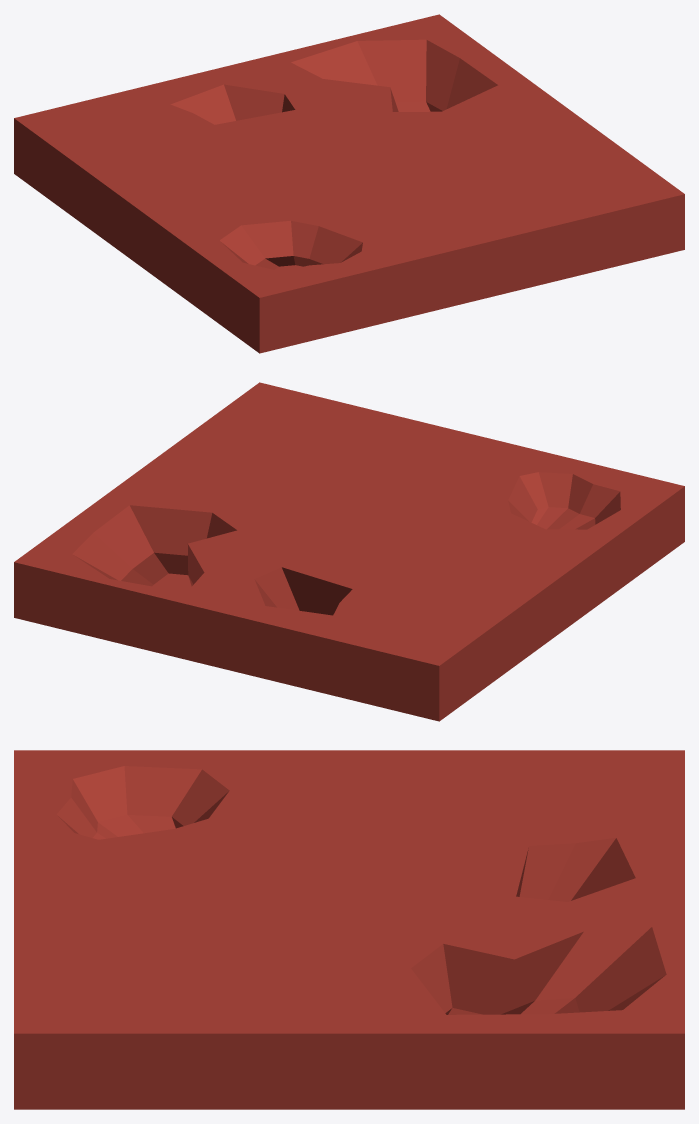
File: Field_8.fbx
3 views of the same model, one above another, from view 1: azimuth 30°, elevation 25°; view 2: azimuth 150°, elevation 25°; view 3: azimuth 270°, elevation 25° (orthographic). The views are drawn at different scales.
Parts seen in each view (by area): view 1: Plane.004; view 2: Plane.004; view 3: Plane.004.
Part boxes in pixels (<box>): Plane.004: <box>14,14,684,353</box>; Plane.004: <box>14,382,684,721</box>; Plane.004: <box>14,750,684,1109</box>.
Bounding box in the file's own units: 400 × 92.12 × 400.
